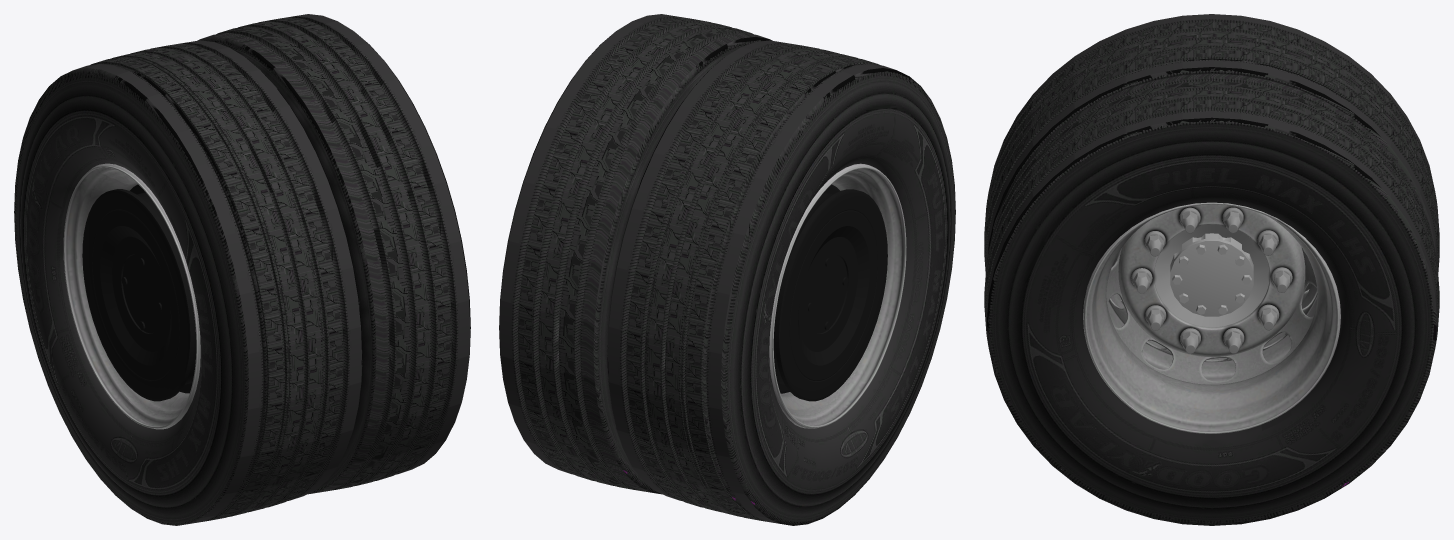
The model's file is wheel_vm_v1.glb.
3 renders of one model, left to right at view 1: azimuth 30°, elevation 25°; view 2: azimuth 150°, elevation 25°; view 3: azimuth 270°, elevation 25°, orthographic. The views are drawn at different scales.
Parts seen in each view (by area): view 1: WHEEL_DUAL, WHEEL_SINGLE; view 2: WHEEL_DUAL, WHEEL_SINGLE; view 3: WHEEL_DUAL, WHEEL_SINGLE.
Part boxes in pixels (x1,y1,x2,y2): WHEEL_DUAL: [14, 14, 470, 525]; WHEEL_SINGLE: [105, 40, 362, 515]; WHEEL_DUAL: [499, 14, 955, 525]; WHEEL_SINGLE: [607, 40, 864, 515]; WHEEL_DUAL: [984, 14, 1439, 525]; WHEEL_SINGLE: [984, 30, 1439, 424].
Bounding box in the file's own units: 0.6084 × 1 × 1.
Materials: 8 (4 with a texture image).
